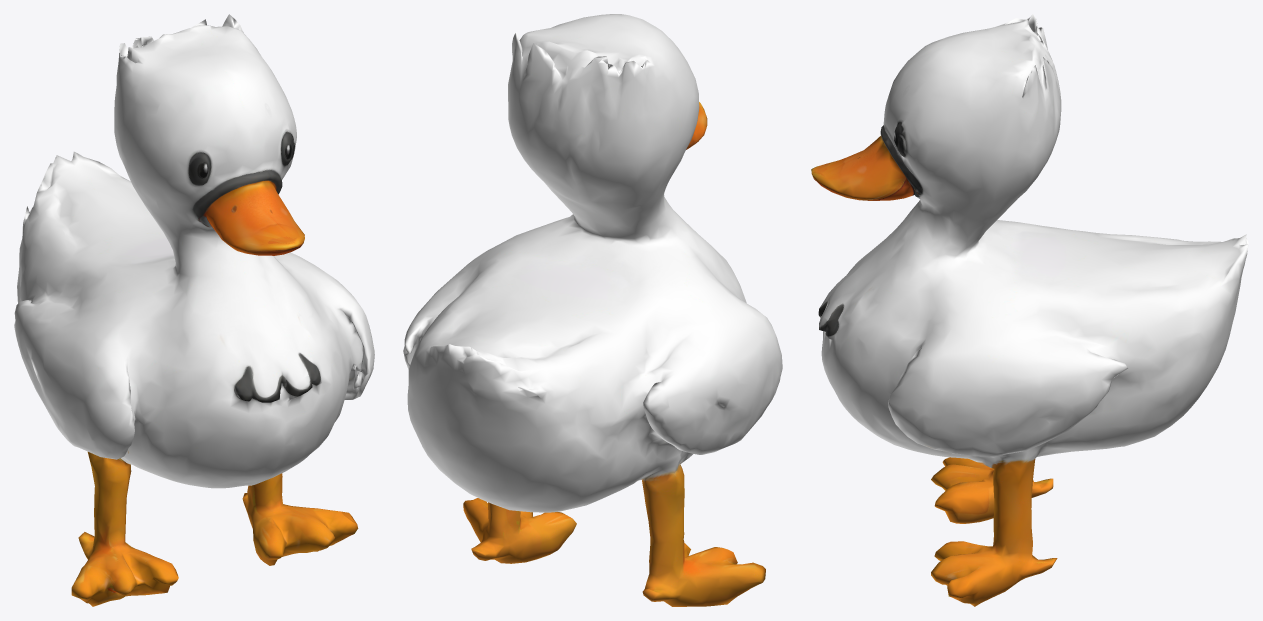
Rendered from duckmaster.glb.
3 renders of one model, left to right at view 1: azimuth 30°, elevation 25°; view 2: azimuth 150°, elevation 25°; view 3: azimuth 270°, elevation 25°, orthographic. The views are drawn at different scales.
Size of the model in its own units: 1.15 by 2 by 1.54.
Materials: 1 (1 with a texture image).
